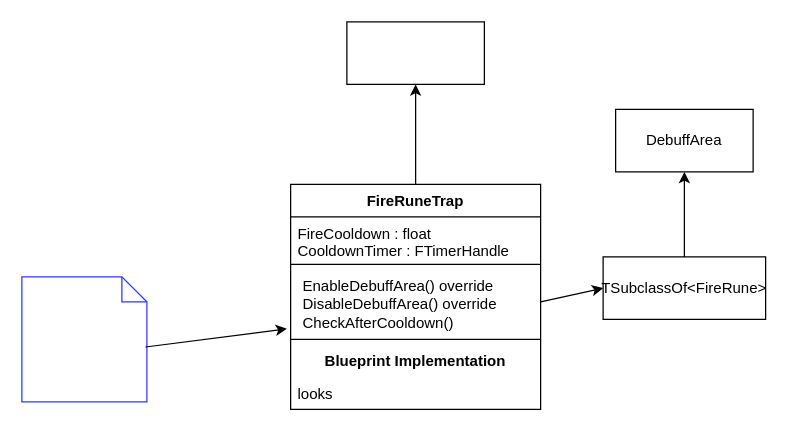
Some shapes in this 789 by 435 pixel diagram are drawn without their labels. The shapes that lost their labels are listed below. From the top down, each one's centre as x and y in pixels, then its label:
(x=415, y=52): «Abstract» DebuffAreaTrap
(x=84, y=339): Checks if any enemies are in circle, then puts them all on fire
